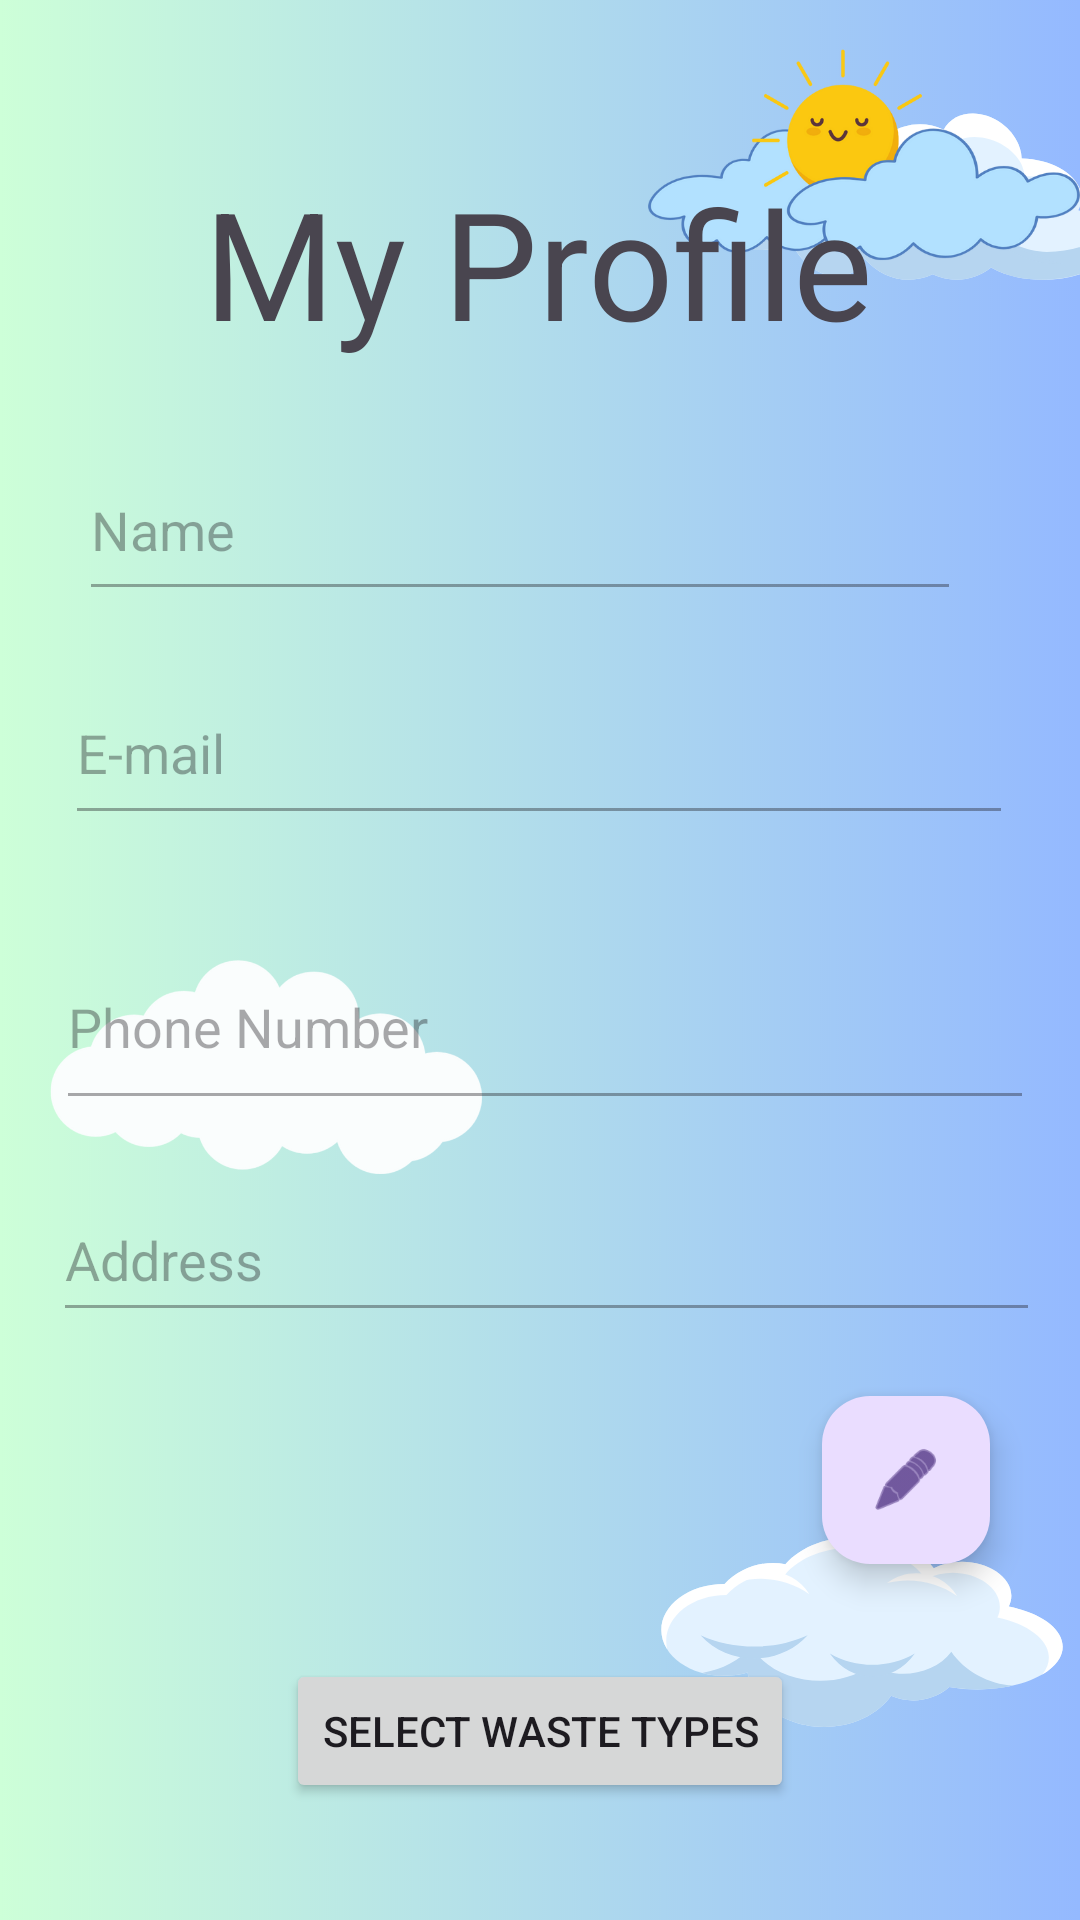

Named icons in this screenshot (1080 x 1920) and their centers, [x,y]:
edit: [906,1480]
